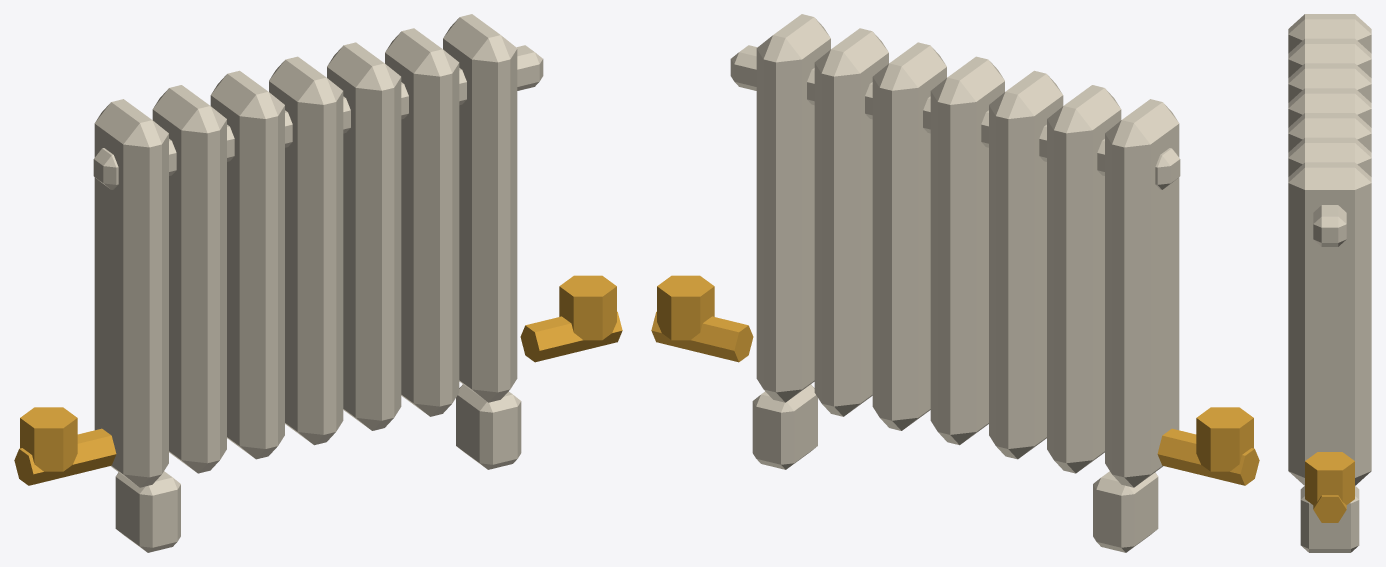
The model's file is radiator.glb.
3 views of the same model, side by side, from view 1: azimuth 30°, elevation 25°; view 2: azimuth 150°, elevation 25°; view 3: azimuth 270°, elevation 25° (orthographic). The views are drawn at different scales.
Visible parts, largest first — view 1: radiator; view 2: radiator; view 3: radiator.
Part boxes in pixels (bbox=[...]): radiator: bbox=[14, 14, 622, 552]; radiator: bbox=[651, 14, 1259, 552]; radiator: bbox=[1288, 14, 1371, 552].
Size of the model in its own units: 0.71 by 0.5 by 0.1.
